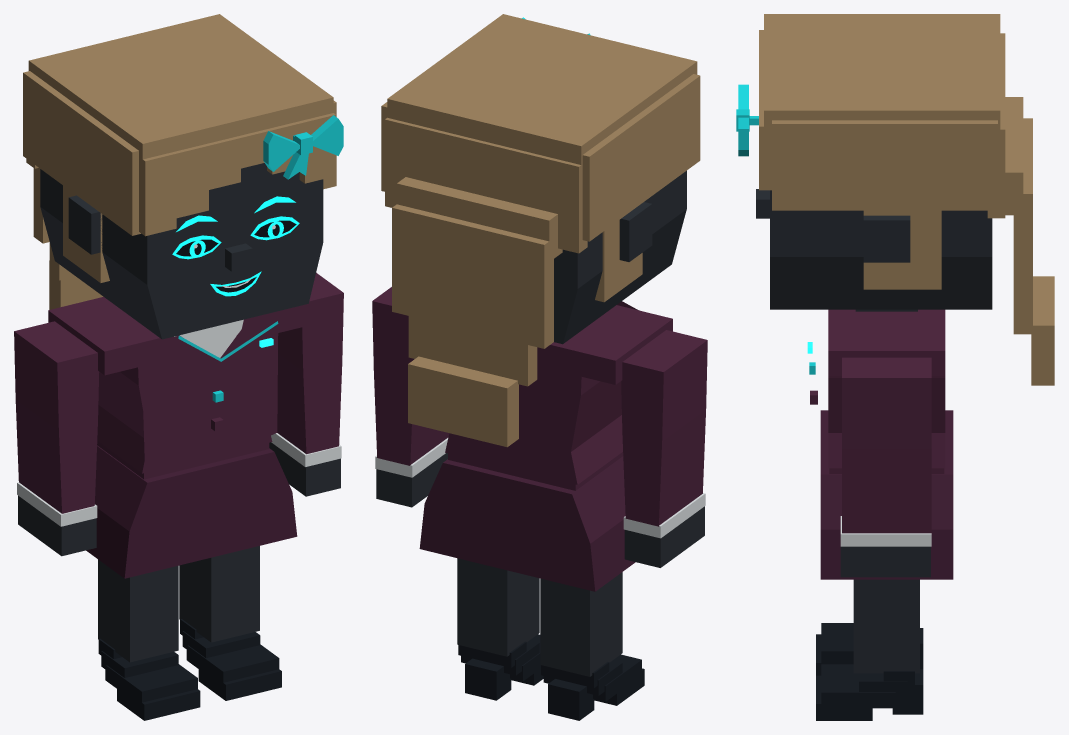
The model's file is agent_female_base_long.glb.
3 renders of one model, left to right at view 1: azimuth 30°, elevation 25°; view 2: azimuth 150°, elevation 25°; view 3: azimuth 270°, elevation 25°, orthographic. The views are drawn at different scales.
Parts seen in each view (by area): view 1: char_hair_visual, char_torso_visual, char_head_visual, char_arm_negx_visual, char_leg_negx_visual, char_leg_posx_visual, char_arm_posx_visual, char_bow_visual, char_hand_negx_visual, char_hand_posx_visual, char_eye_negx_visual, char_eye_posx_visual (+1 smaller); view 2: char_hair_visual, char_torso_visual, char_arm_negx_visual, char_leg_negx_visual, char_leg_posx_visual, char_head_visual, char_arm_posx_visual, char_hand_negx_visual, char_hand_posx_visual; view 3: char_hair_visual, char_head_visual, char_arm_posx_visual, char_torso_visual, char_leg_posx_visual, char_hand_posx_visual, char_leg_negx_visual, char_bow_visual.
Part boxes in pixels (x1,y1,x2,y2): char_hair_visual: (23,14,336,309); char_torso_visual: (48,297,309,578); char_head_visual: (40,163,323,339); char_arm_negx_visual: (14,321,99,526); char_leg_negx_visual: (98,559,200,720); char_leg_posx_visual: (179,546,281,700); char_arm_posx_visual: (271,272,343,466); char_bow_visual: (263,115,343,179); char_hand_negx_visual: (18,495,96,556); char_hand_posx_visual: (269,442,340,496); char_eye_negx_visual: (172,235,221,259); char_eye_posx_visual: (250,216,299,240); char_hair_visual: (381,14,700,447); char_torso_visual: (407,301,672,591); char_arm_negx_visual: (621,330,707,538); char_leg_negx_visual: (540,572,644,720); char_leg_posx_visual: (457,558,543,700); char_head_visual: (554,170,686,344); char_arm_posx_visual: (372,287,449,477); char_hand_negx_visual: (624,506,704,567); char_hand_posx_visual: (376,453,447,507); char_hair_visual: (759,14,1054,385); char_head_visual: (756,189,992,311); char_arm_posx_visual: (840,357,931,546); char_torso_visual: (809,309,953,579); char_leg_posx_visual: (816,579,923,720); char_hand_posx_visual: (840,546,930,577); char_leg_negx_visual: (816,623,923,675); char_bow_visual: (736,84,758,156).
Size of the model in its own units: 0.88 by 1.77 by 0.816.
